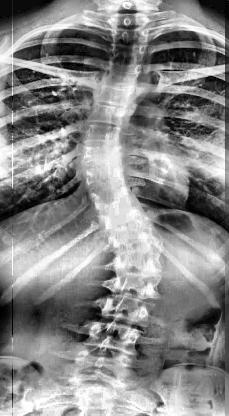Vertebrae: (70, 351, 138, 385), (94, 294, 156, 330), (82, 320, 144, 356), (91, 79, 156, 109), (100, 272, 167, 300), (106, 212, 158, 248), (108, 230, 174, 258), (104, 247, 168, 275), (84, 184, 142, 214), (99, 198, 150, 230), (78, 139, 132, 168), (82, 100, 140, 126), (77, 162, 129, 190), (80, 120, 136, 144), (98, 61, 154, 84), (104, 40, 156, 62)
